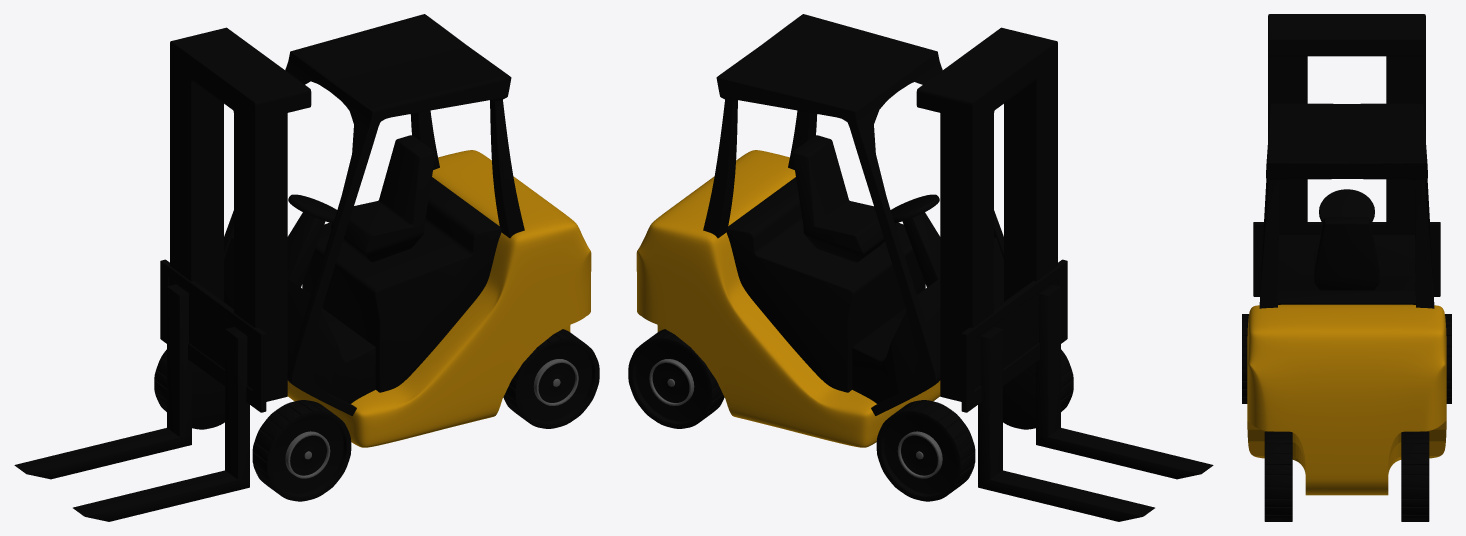
Rendered from montacargas.glb.
3 renders of one model, left to right at view 1: azimuth 30°, elevation 25°; view 2: azimuth 150°, elevation 25°; view 3: azimuth 270°, elevation 25°, orthographic. The views are drawn at different scales.
Parts seen in each view (by area): view 1: Base cuchillas, Base_naranja, Base_marco, Marco, Cuchillas, Ruedas, Silla_volante; view 2: Base cuchillas, Base_naranja, Base_marco, Marco, Cuchillas, Ruedas, Silla_volante; view 3: Base_naranja, Marco, Base cuchillas, Ruedas, Base_marco, Silla_volante, Cuchillas.
Boxes of the visible parts, x1,y1,x2,y2 form: Base cuchillas: [170, 27, 311, 401]; Base_naranja: [287, 150, 591, 447]; Base_marco: [224, 177, 501, 403]; Marco: [224, 14, 524, 415]; Cuchillas: [14, 259, 266, 521]; Ruedas: [154, 329, 599, 501]; Silla_volante: [287, 135, 435, 287]; Base cuchillas: [916, 27, 1057, 401]; Base_naranja: [636, 150, 940, 447]; Base_marco: [726, 177, 1003, 403]; Marco: [703, 14, 1003, 415]; Cuchillas: [961, 259, 1213, 521]; Ruedas: [628, 329, 1073, 501]; Silla_volante: [792, 135, 940, 287]; Base_naranja: [1247, 304, 1446, 495]; Marco: [1259, 103, 1434, 308]; Base cuchillas: [1268, 14, 1425, 234]; Ruedas: [1242, 314, 1451, 521]; Base_marco: [1260, 235, 1433, 304]; Silla_volante: [1314, 189, 1379, 290]; Cuchillas: [1253, 222, 1440, 296].
Size of the model in its own units: 3.96 by 2.97 by 1.54.
